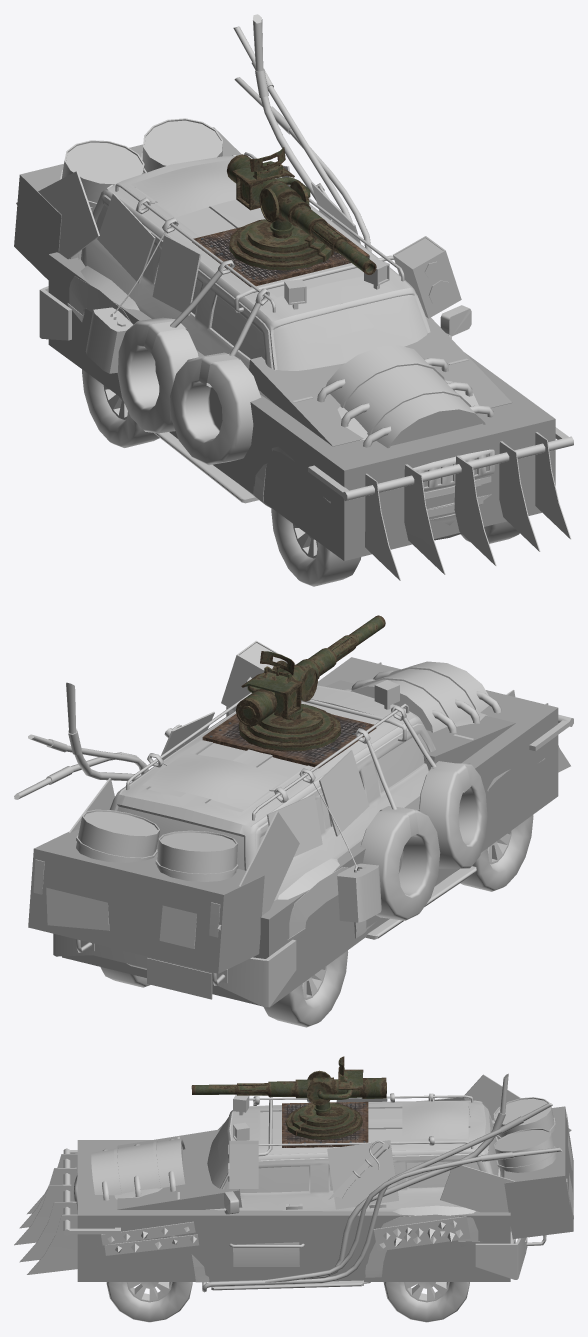
Rendered from Tortuga_003.fbx.
The picture shows the model from 3 angles, top to bottom: view 1: azimuth 30°, elevation 25°; view 2: azimuth 150°, elevation 25°; view 3: azimuth 270°, elevation 25°; orthographic projection. The views are drawn at different scales.
Parts seen in each view (by area): view 1: CarBody, Collsion3, Armor_Front_Lame, Armor_Copertura_Motore, Armor_Ruota_Avanti, Collsion4, Armor_Ruota_Dietro, Gun, Armor_Lastre_R, Armor_Marmitte, Collsion2, Armor_Cassa (+12 smaller); view 2: CarBody, Collsion2, Collsion3, Armor_Carretto_Posteriore, Armor_Ruota_Dietro, Armor_Paraurti_Posteriore, Armor_Ruota_Avanti, Armor_Copertura_Motore, Gun, Armor_Bandiera, Armor_Lastre_R, Armor_Barile_1 (+14 smaller); view 3: Collsion3, CarBody, Armor_Marmitte, Collsion2, Armor_Front_Lame, Armor_Copertura_Motore, Collsion4, Gun, Armor_Carretto_Posteriore, Armor_Placca_Sciabola, Wheel_FL, Wheel_RL (+15 smaller).
Part boxes in pixels (box(x1,y1,x2,y2)): CarBody: box(67, 155, 494, 540); Collsion3: box(48, 252, 555, 560); Armor_Front_Lame: box(308, 427, 573, 580); Armor_Copertura_Motore: box(317, 345, 494, 448); Armor_Ruota_Avanti: box(170, 302, 261, 465); Collsion4: box(249, 317, 511, 446); Armor_Ruota_Dietro: box(117, 270, 221, 433); Gun: box(227, 147, 376, 274); Armor_Lastre_R: box(97, 193, 201, 315); Armor_Marmitte: box(233, 14, 371, 252); Collsion2: box(14, 127, 241, 279); Armor_Cassa: box(234, 236, 461, 318); CarBody: box(109, 685, 545, 969); Collsion2: box(28, 829, 264, 973); Collsion3: box(62, 657, 558, 1007); Armor_Carretto_Posteriore: box(33, 778, 299, 948); Armor_Ruota_Dietro: box(360, 740, 440, 920); Armor_Paraurti_Posteriore: box(53, 933, 296, 1007); Armor_Ruota_Avanti: box(403, 717, 487, 868); Armor_Copertura_Motore: box(344, 661, 501, 733); Gun: box(236, 615, 385, 726); Armor_Bandiera: box(142, 752, 288, 809); Armor_Lastre_R: box(267, 750, 369, 856); Armor_Barile_1: box(76, 809, 159, 862); Collsion3: box(77, 1140, 510, 1281); CarBody: box(73, 1100, 515, 1290); Armor_Marmitte: box(202, 1073, 562, 1292); Collsion2: box(504, 1106, 573, 1239); Armor_Front_Lame: box(14, 1148, 120, 1274); Armor_Copertura_Motore: box(91, 1138, 185, 1200); Collsion4: box(117, 1129, 242, 1209); Gun: box(191, 1056, 386, 1105); Armor_Carretto_Posteriore: box(440, 1074, 573, 1231); Armor_Placca_Sciabola: box(327, 1140, 398, 1209); Wheel_FL: box(106, 1282, 192, 1322); Wheel_RL: box(383, 1282, 469, 1322).
Size of what is drawn, in the model's own units: 233 by 285 by 580.
